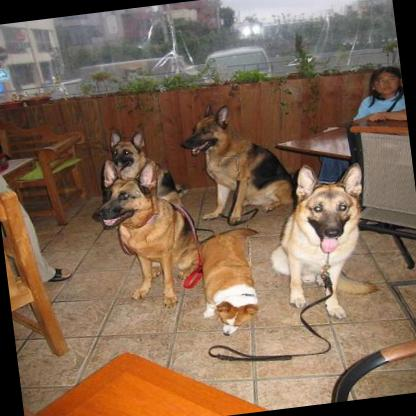German_shepherd: (258, 157, 379, 326)
